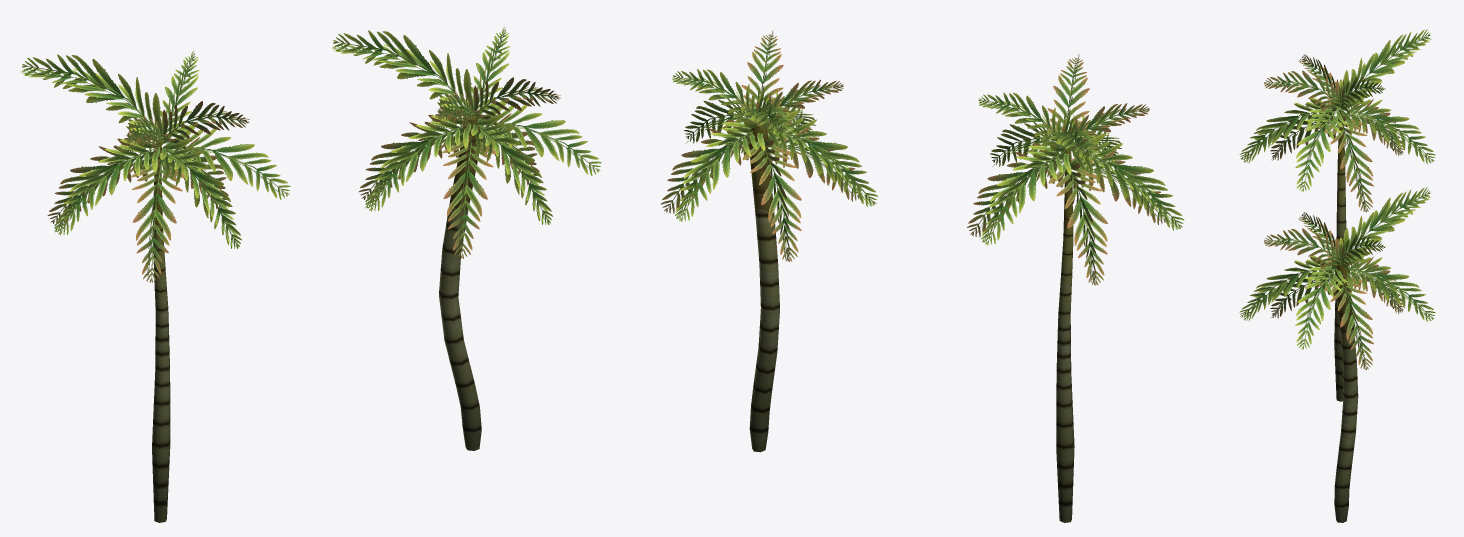
File: 11_Arboles_Palmeras.fbx
3 renders of one model, left to right at view 1: azimuth 30°, elevation 25°; view 2: azimuth 150°, elevation 25°; view 3: azimuth 270°, elevation 25°, orthographic. The views are drawn at different scales.
Parts seen in each view (by area): view 1: 2_Palmera_Low; view 2: 2_Palmera_Low; view 3: 2_Palmera_Low.
Part boxes in pixels (x1,y1,x2,y2): 2_Palmera_Low: (21, 27, 601, 522); 2_Palmera_Low: (661, 31, 1183, 522); 2_Palmera_Low: (1239, 29, 1435, 522).
Bounding box in the file's own units: 1460 × 1165 × 651.
